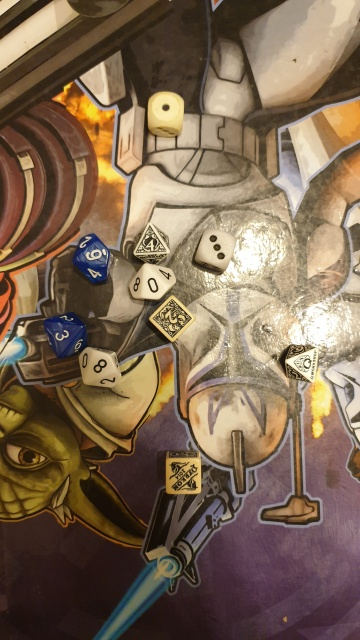d10-10: (124, 260, 181, 302)
d10-3: (39, 308, 88, 358)
d10-6: (72, 229, 115, 288)
d10-8: (74, 338, 125, 392)
d6-1: (143, 83, 187, 137)
d6-3: (194, 229, 238, 271)
d6p-1: (162, 451, 202, 496)
d6p-2: (148, 294, 196, 345)
d8p-4: (133, 219, 176, 267)
d8p-8: (279, 340, 322, 387)
